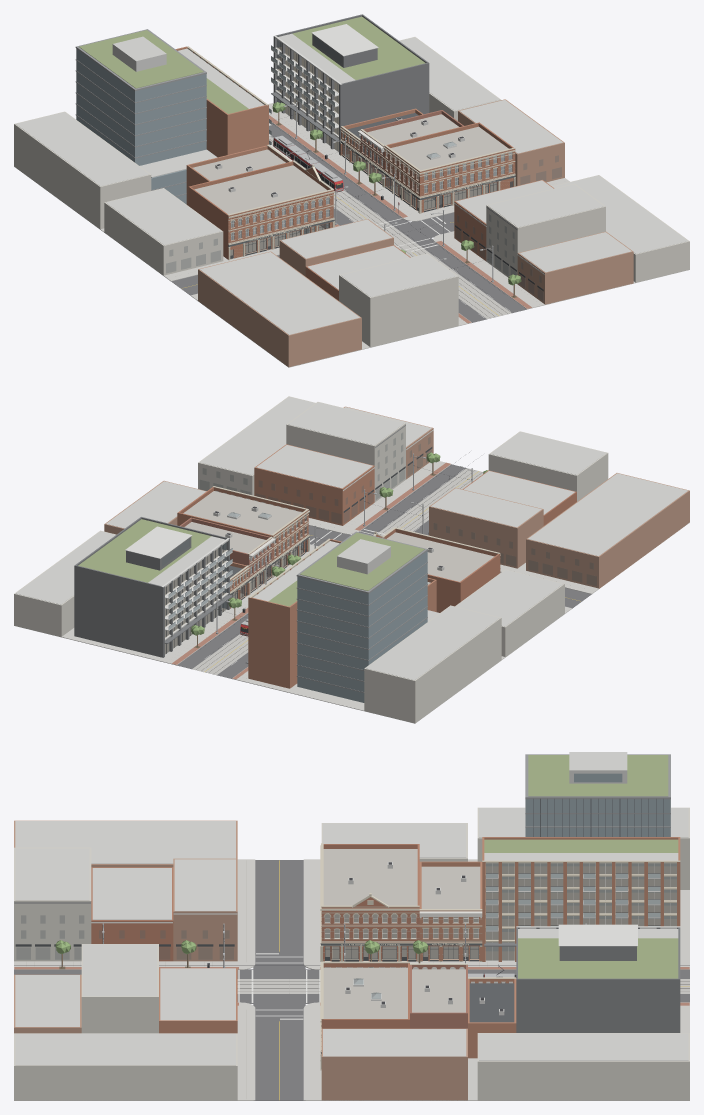
The model's file is clay-toronto-streetcar-street-clay-v001.glb.
3 renders of one model, top to bottom at view 1: azimuth 30°, elevation 25°; view 2: azimuth 150°, elevation 25°; view 3: azimuth 270°, elevation 25°, orthographic. The views are drawn at different scales.
Visible parts, largest first — view 1: CLAY_MEMBRANE, CLAY_CONTEXT, CLAY_NEIGHBOUR, CLAY_CURTAIN, CLAY_WALL, CLAY_ROOF, CLAY_CHARCOAL, CLAY_GLASS, CLAY_GREEN, CLAY_BRICK2, CLAY_STONE, CLAY_CONCRETE (+13 smaller); view 2: CLAY_MEMBRANE, CLAY_CONTEXT, CLAY_CURTAIN, CLAY_NEIGHBOUR, CLAY_CHARCOAL, CLAY_BRICK2, CLAY_GREEN, CLAY_ROOF, CLAY_CONCRETE, CLAY_GLASS, CLAY_WALL, CLAY_ASPHALT (+11 smaller); view 3: CLAY_MEMBRANE, CLAY_CONTEXT, CLAY_ROOF, CLAY_GLASS, CLAY_ASPHALT, CLAY_GREEN, CLAY_NEIGHBOUR, CLAY_CONCRETE, CLAY_CHARCOAL, CLAY_FLOOR, CLAY_BRICK2, CLAY_WALL (+13 smaller).
Part boxes in pixels (x1,y1,x2,y2): CLAY_MEMBRANE: [16, 33, 687, 334]; CLAY_CONTEXT: [14, 37, 689, 347]; CLAY_NEIGHBOUR: [198, 99, 633, 367]; CLAY_CURTAIN: [76, 48, 217, 204]; CLAY_WALL: [188, 122, 515, 300]; CLAY_ROOF: [192, 114, 508, 214]; CLAY_CHARCOAL: [271, 14, 429, 154]; CLAY_GLASS: [166, 36, 561, 301]; CLAY_GREEN: [79, 16, 425, 113]; CLAY_BRICK2: [175, 46, 554, 261]; CLAY_STONE: [186, 46, 515, 260]; CLAY_CONCRETE: [17, 103, 689, 367]; CLAY_MEMBRANE: [16, 397, 687, 680]; CLAY_CONTEXT: [14, 396, 608, 723]; CLAY_CURTAIN: [297, 551, 427, 702]; CLAY_NEIGHBOUR: [104, 406, 689, 588]; CLAY_CHARCOAL: [74, 517, 248, 663]; CLAY_BRICK2: [230, 444, 436, 688]; CLAY_GREEN: [78, 519, 424, 606]; CLAY_ROOF: [183, 491, 494, 584]; CLAY_CONCRETE: [19, 461, 689, 723]; CLAY_GLASS: [162, 433, 596, 654]; CLAY_WALL: [177, 470, 576, 612]; CLAY_ASPHALT: [177, 464, 591, 678]; CLAY_MEMBRANE: [15, 752, 688, 1065]; CLAY_CONTEXT: [14, 807, 689, 1100]; CLAY_ROOF: [323, 849, 480, 1018]; CLAY_GLASS: [16, 863, 676, 998]; CLAY_ASPHALT: [14, 860, 689, 1100]; CLAY_GREEN: [484, 755, 678, 978]; CLAY_NEIGHBOUR: [14, 820, 467, 1100]; CLAY_CONCRETE: [14, 859, 689, 1100]; CLAY_CHARCOAL: [484, 927, 680, 1032]; CLAY_FLOOR: [325, 866, 676, 960]; CLAY_BRICK2: [159, 837, 680, 1058]; CLAY_WALL: [91, 844, 464, 1028].
Bounding box in the file's own units: 118 × 34.7 × 140.
